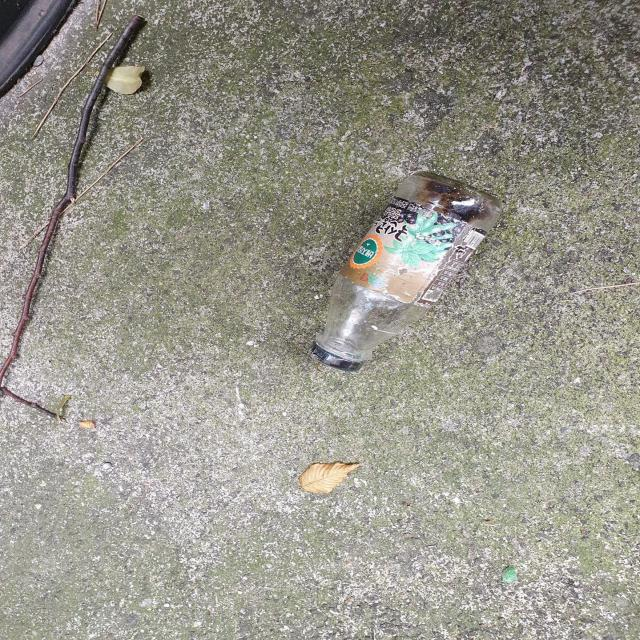glass: (311, 171, 501, 371)
